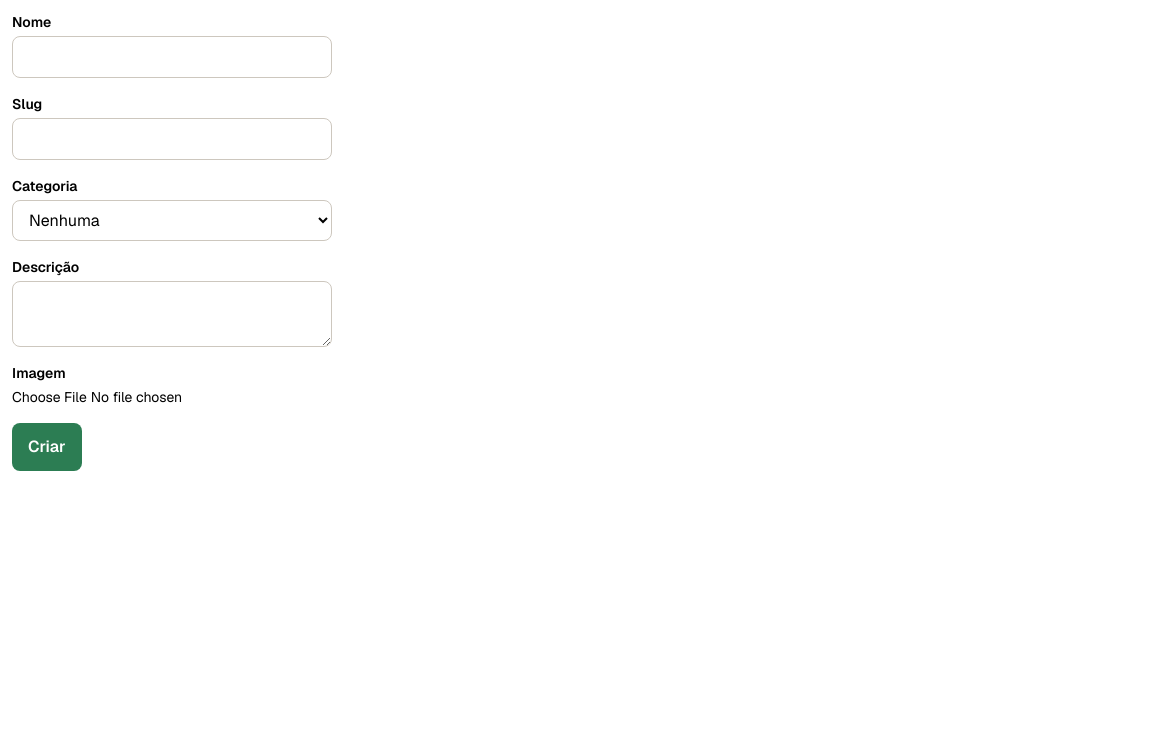
Test: CreateProduct › UXA-004: submit válido dispara o toast "Produto salvo." e mantém o redirect existente
Step 1. Type "Fone Bluetooth" into the field labelled "Nome" → (172, 57), box [12, 36, 332, 78]
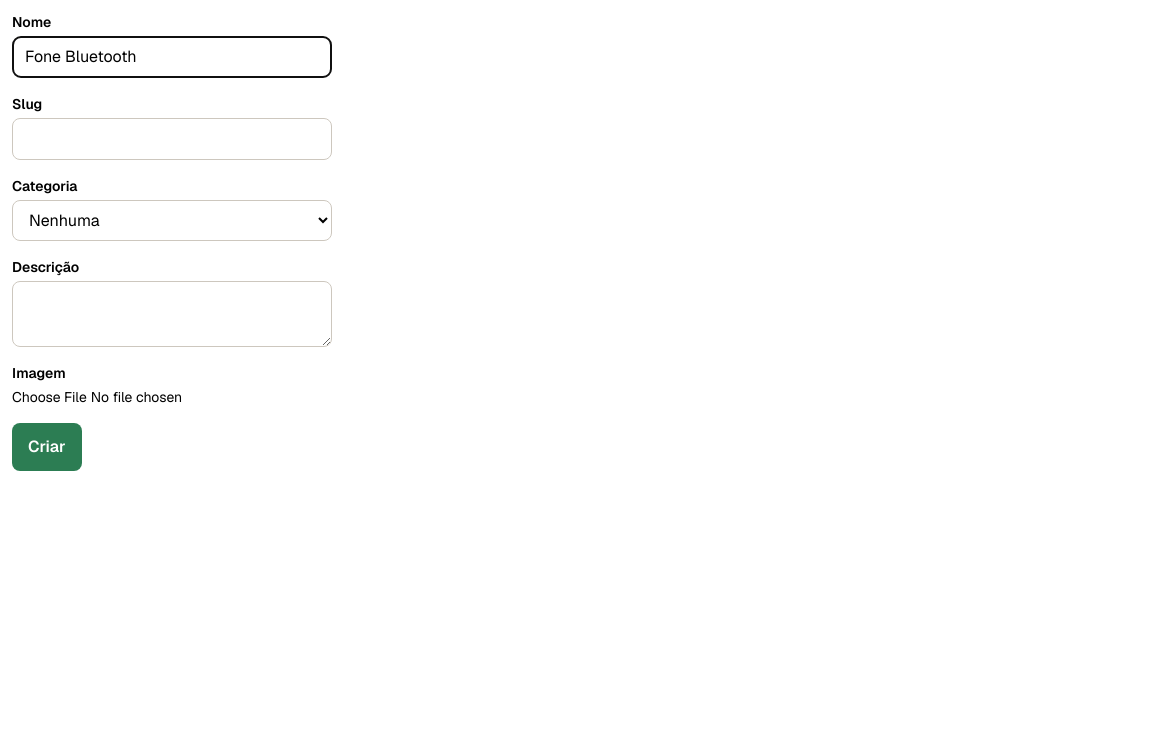
Step 2. Type "fone-bluetooth" into the field labelled "Slug" → (172, 139), box [12, 118, 332, 160]
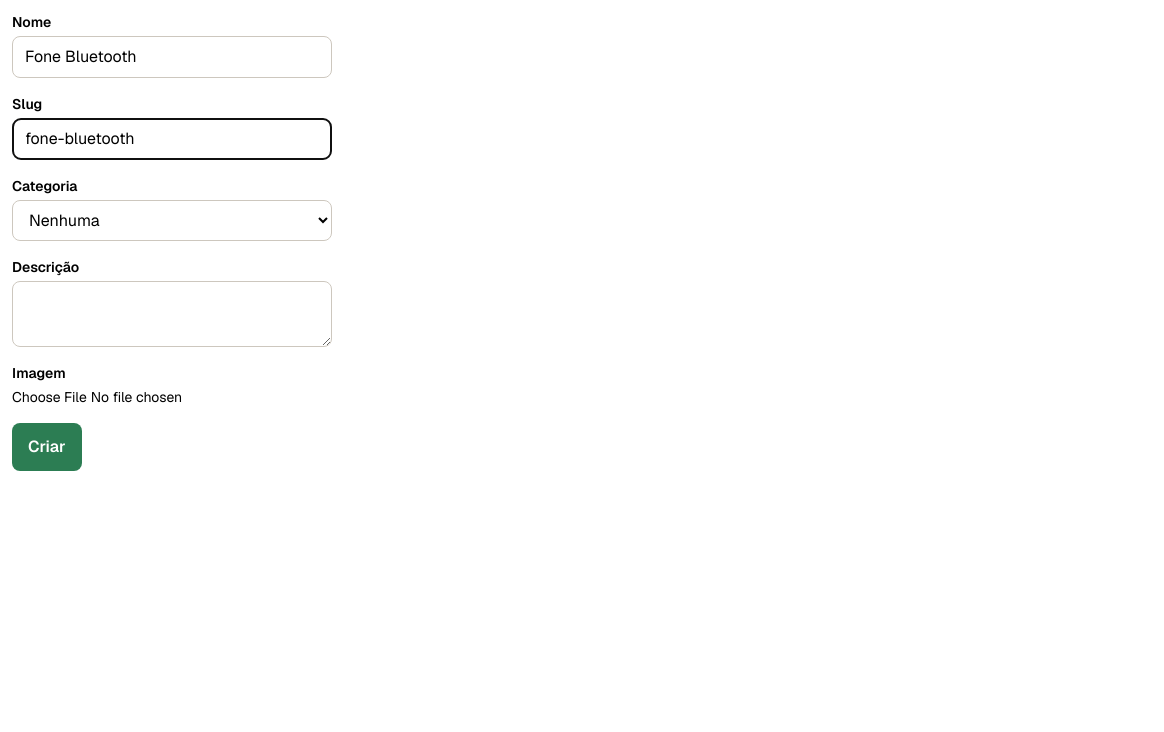
Step 3. Click the button "Criar" → (47, 447), box [12, 423, 82, 471]
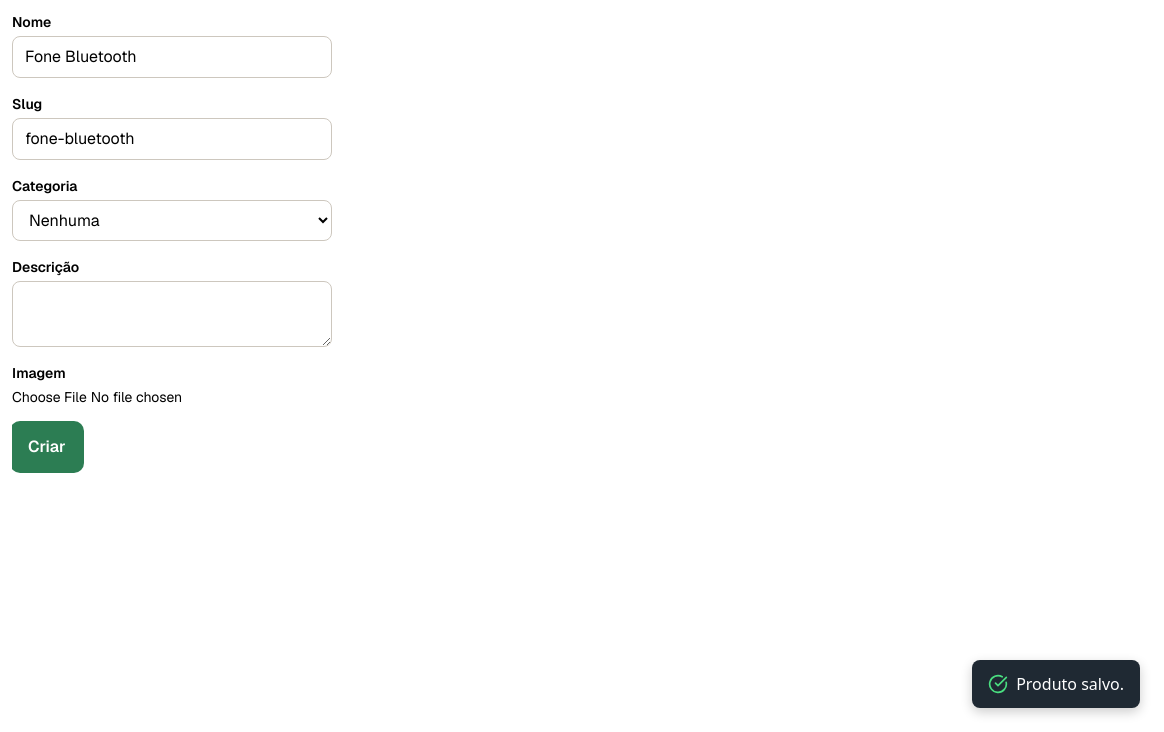
expect the text "Produto salvo." is shown: met, box [1016, 672, 1124, 696]
